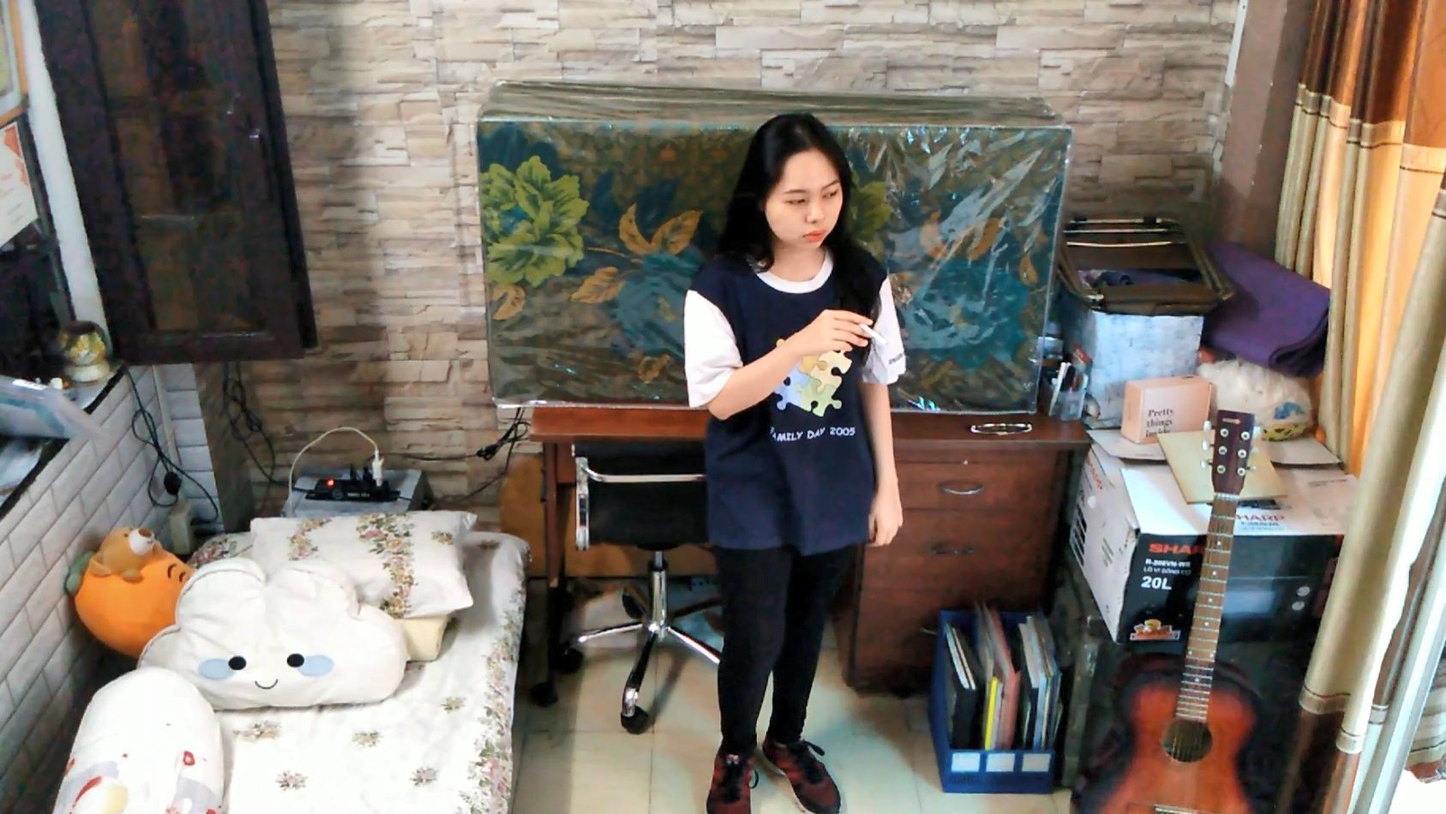cigarette: (858, 314, 891, 355)
person: (679, 109, 919, 814)
